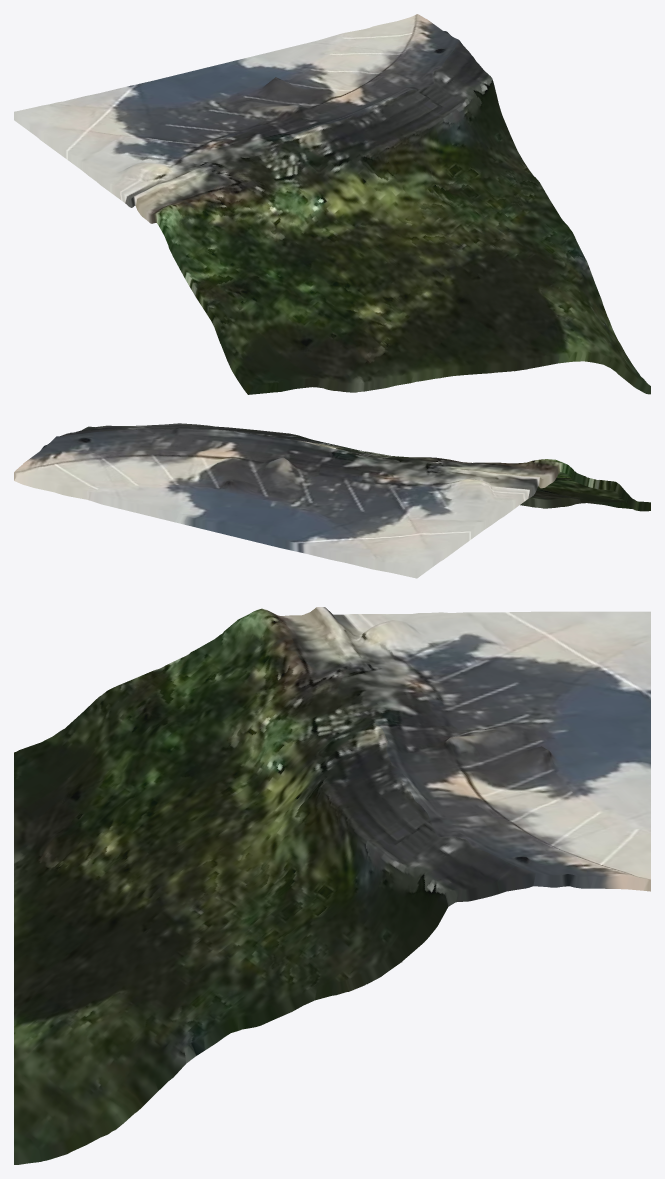
Rendered from z20-167755-405193-h0-yup-uvflip-v3-world.glb.
3 renders of one model, top to bottom at view 1: azimuth 30°, elevation 25°; view 2: azimuth 150°, elevation 25°; view 3: azimuth 270°, elevation 25°, orthographic. The views are drawn at different scales.
Bounding box in the file's own units: 30.16 × 15.56 × 30.32.
Materials: 1 (1 with a texture image).
